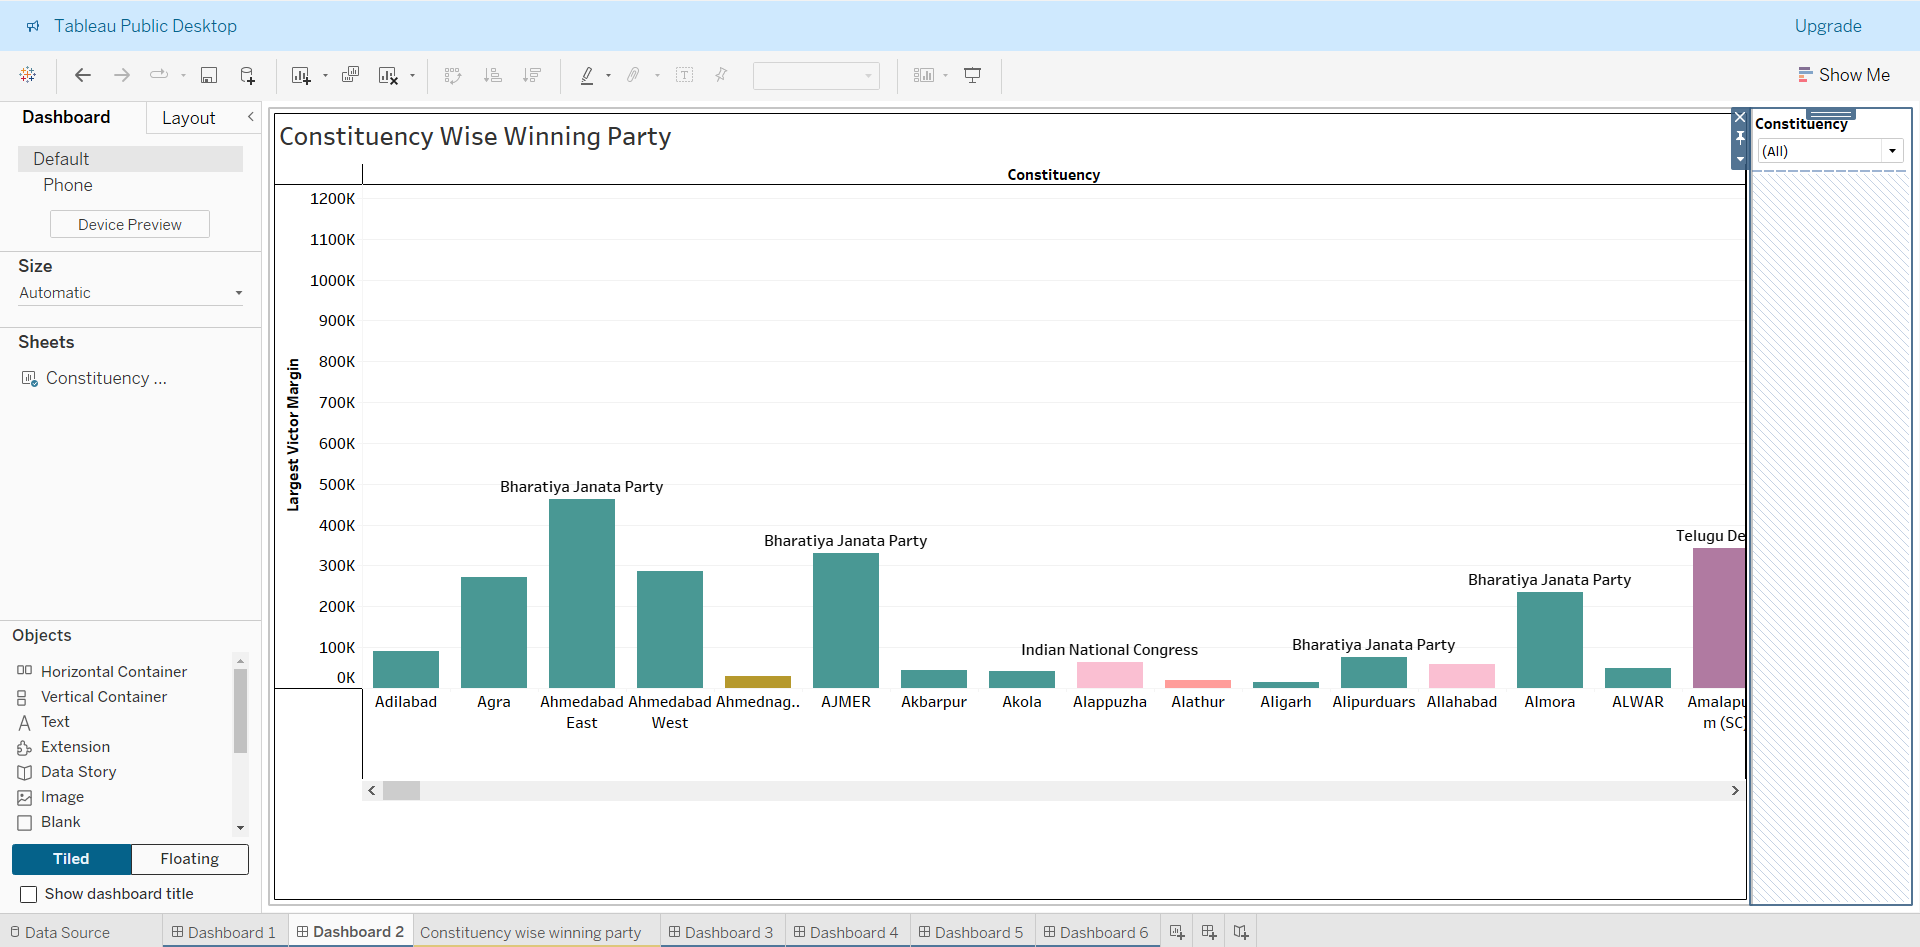

What the dashboard file says about the page in this screenshot:
{"tool":"tableau","page":{"name":"Dashboard 2","canvas":[1000,1000],"units":"permille","ordinal":1},"visuals":[{"type":"worksheet","title":"Constituency wise winning party","mark":"Automatic","rows":["Calculation_16888533279363072"],"cols":["Constituency"],"box":[5,9.9,890.1,980.3]},{"type":"filter","title":"Constituency wise winning party","param":"[federated.0h8ex2p1y0920d146o5uc1f2loxi].[none:Constituency:nk]","box":[895.1,9.9,99.9,75.2]}]}

Visuals, with their boxes on the dashboard's canvas, which has no fixed pixel size, in thousandths of its width and height (x1, y1, x2, y2). These are canvas units, not pixel positions in the 1920x947 screenshot, which may show the page scaled, cropped or inside an application window:
"Constituency wise winning party" worksheet: 5,10,895,990
"Constituency wise winning party" filter: 895,10,995,85
